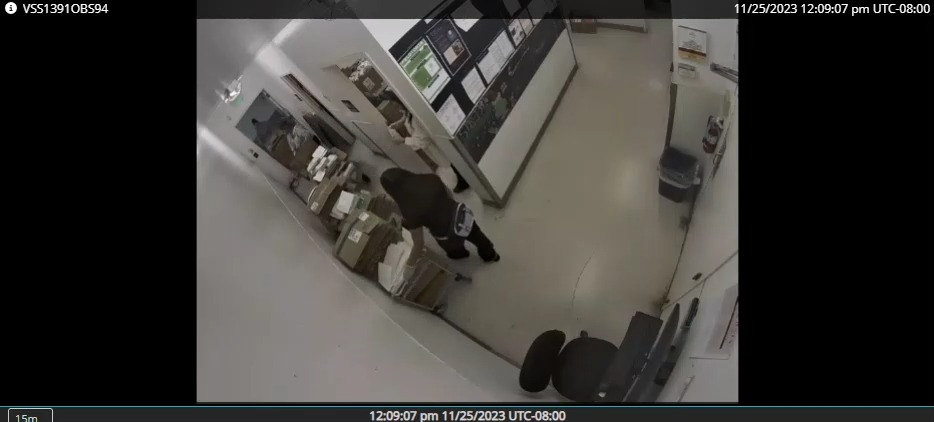gloves: (400, 257, 418, 285), (384, 123, 401, 142)
